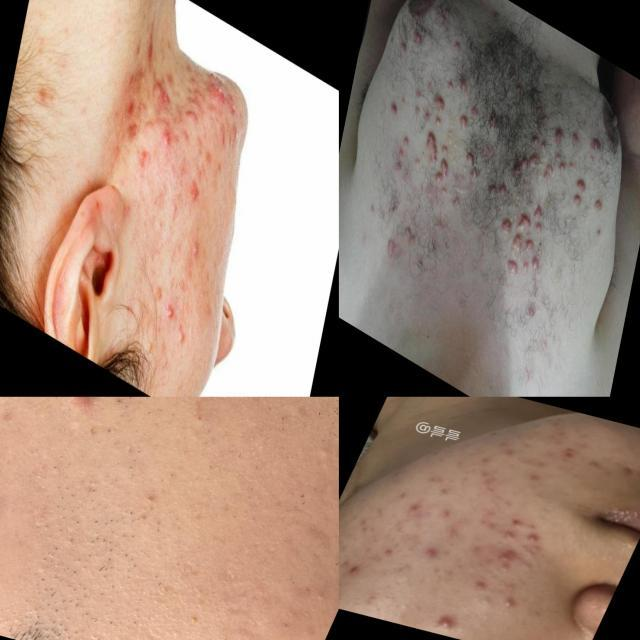Pimples: (508, 138, 541, 194), (26, 396, 115, 416), (423, 609, 470, 640), (518, 234, 545, 286), (459, 146, 486, 190), (444, 66, 472, 104), (421, 125, 444, 169), (185, 170, 208, 213), (430, 152, 452, 196), (410, 542, 450, 566), (159, 292, 182, 333), (394, 131, 412, 176), (152, 77, 176, 110), (570, 172, 588, 214), (486, 175, 509, 207), (494, 543, 526, 565), (530, 200, 548, 238), (493, 524, 524, 545), (192, 78, 212, 110), (514, 208, 534, 240), (188, 228, 204, 267), (338, 558, 366, 580), (551, 146, 570, 178), (225, 116, 242, 150), (496, 593, 522, 615), (430, 90, 450, 116), (522, 528, 546, 548), (160, 123, 177, 151), (503, 254, 521, 280), (435, 506, 459, 524), (499, 212, 514, 240), (387, 95, 402, 123), (509, 232, 524, 258), (410, 26, 426, 50), (540, 160, 554, 187), (506, 516, 528, 532), (469, 576, 492, 591), (458, 111, 472, 133), (404, 501, 422, 516), (379, 546, 397, 560), (339, 592, 347, 610)
